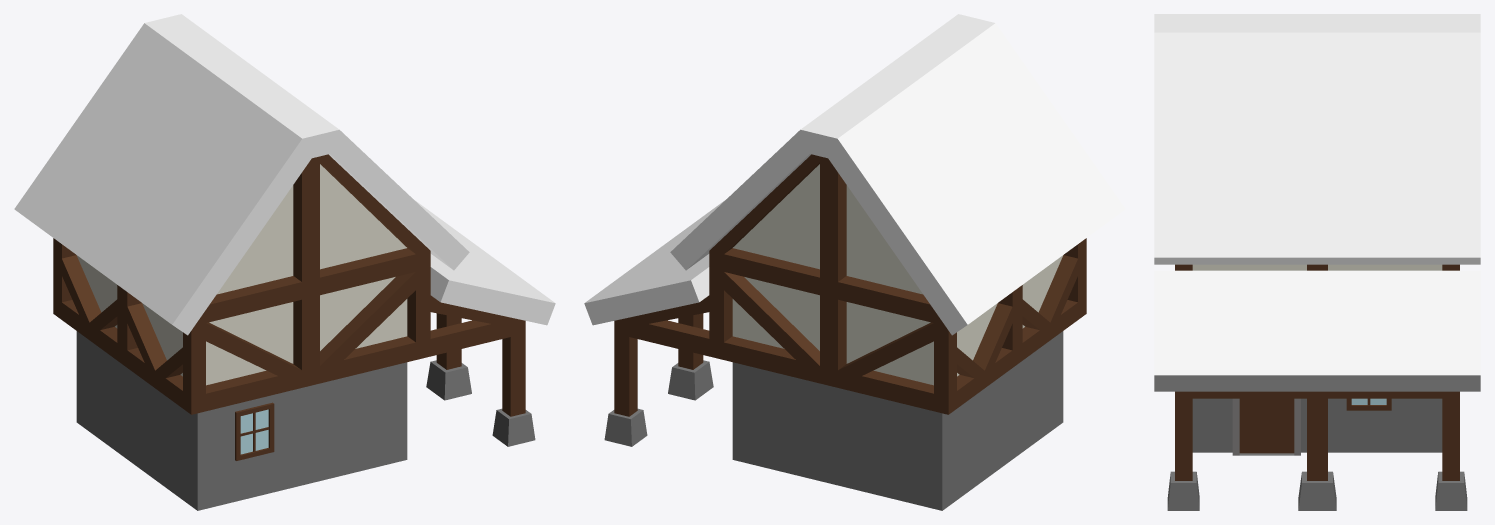
The model's file is SingleComplex.fbx.
3 views of the same model, side by side, from view 1: azimuth 30°, elevation 25°; view 2: azimuth 150°, elevation 25°; view 3: azimuth 270°, elevation 25° (orthographic). The views are drawn at different scales.
Visible parts, largest first — view 1: Single Complex; view 2: Single Complex; view 3: Single Complex.
Boxes of the visible parts, bbox=[...] form: Single Complex: bbox=[14, 14, 555, 510]; Single Complex: bbox=[584, 14, 1125, 510]; Single Complex: bbox=[1154, 14, 1480, 510].
Bounding box in the file's own units: 91.43 × 83.06 × 65.23.
